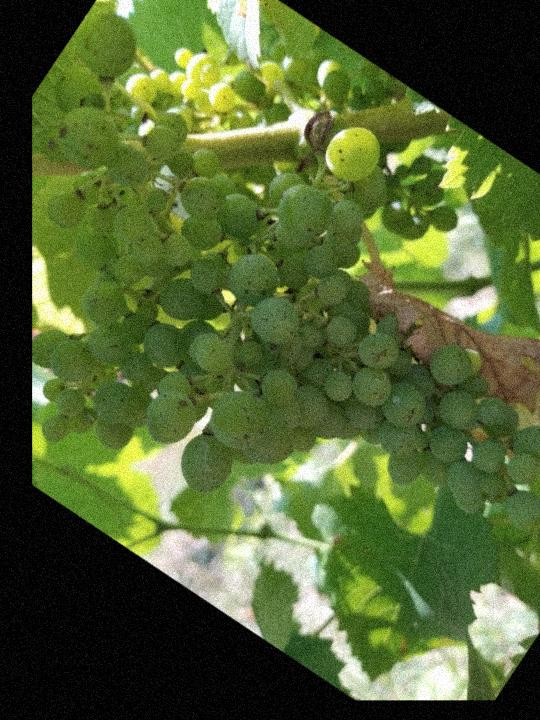grape: (0, 0, 540, 703)
